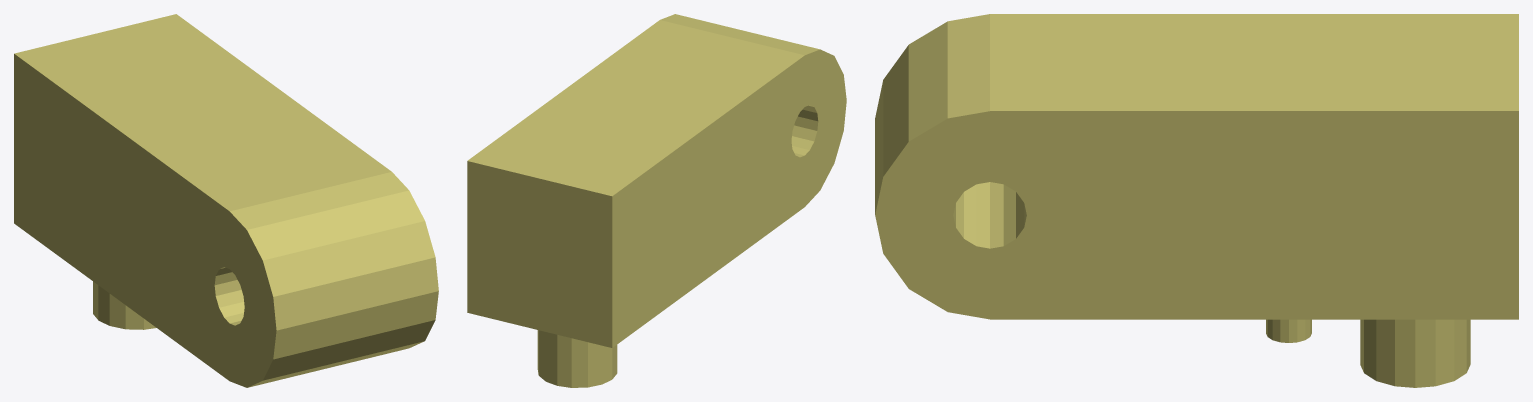
Rendered from LARM_MIDDLE1_LINK_mesh.dae.
3 views of the same model, side by side, from view 1: azimuth 30°, elevation 25°; view 2: azimuth 150°, elevation 25°; view 3: azimuth 270°, elevation 25° (orthographic). The views are drawn at different scales.
Parts seen in each view (by area): view 1: LARM_MIDDLE1_LINK; view 2: LARM_MIDDLE1_LINK; view 3: LARM_MIDDLE1_LINK.
Boxes of the visible parts, x1,y1,x2,y2 form: LARM_MIDDLE1_LINK: [14, 14, 438, 387]; LARM_MIDDLE1_LINK: [467, 14, 846, 387]; LARM_MIDDLE1_LINK: [875, 14, 1518, 387].
Bounding box in the file's own units: 0.01 × 0.0145 × 0.028.
